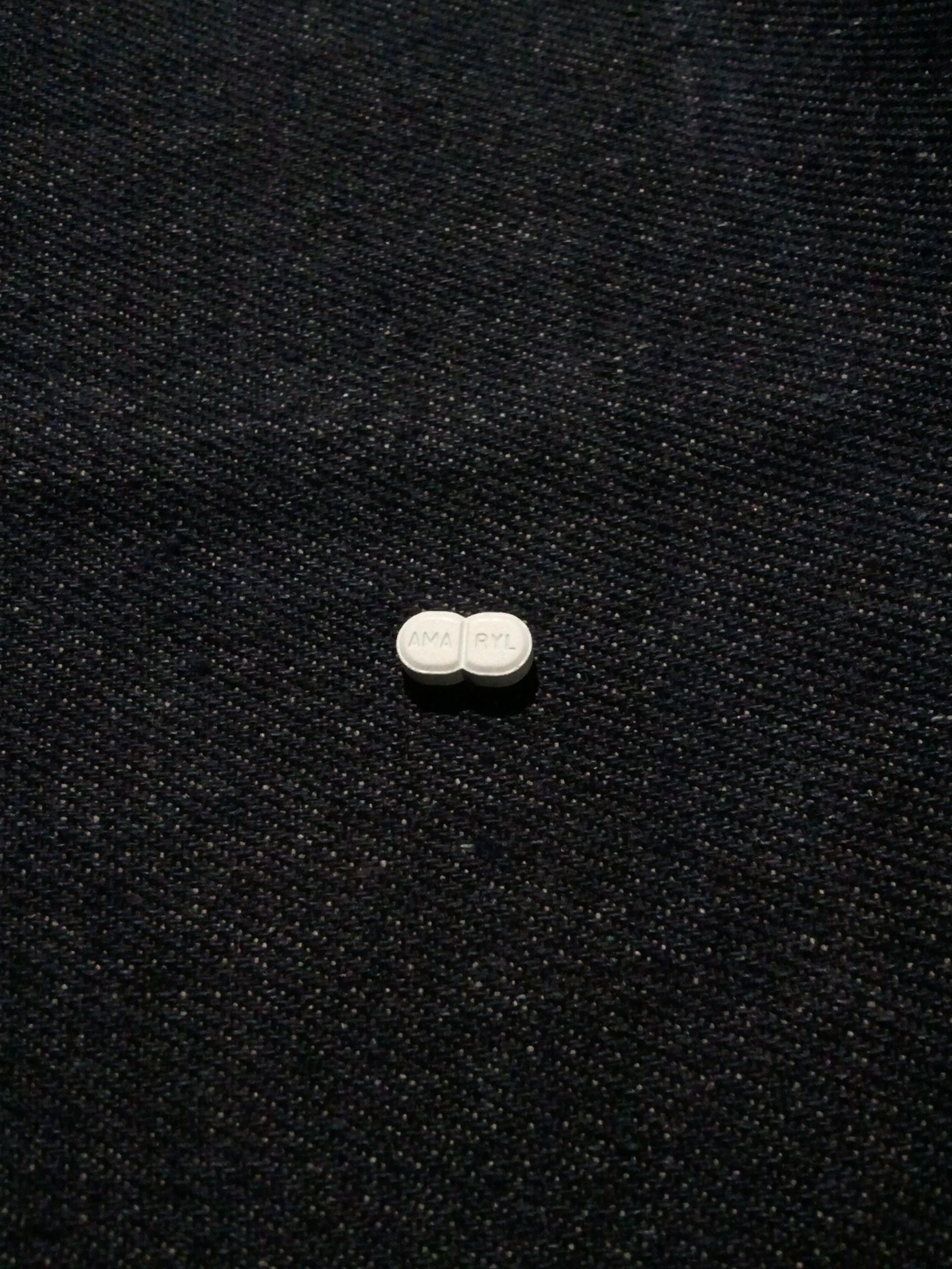Pill: (382, 602, 542, 693)
